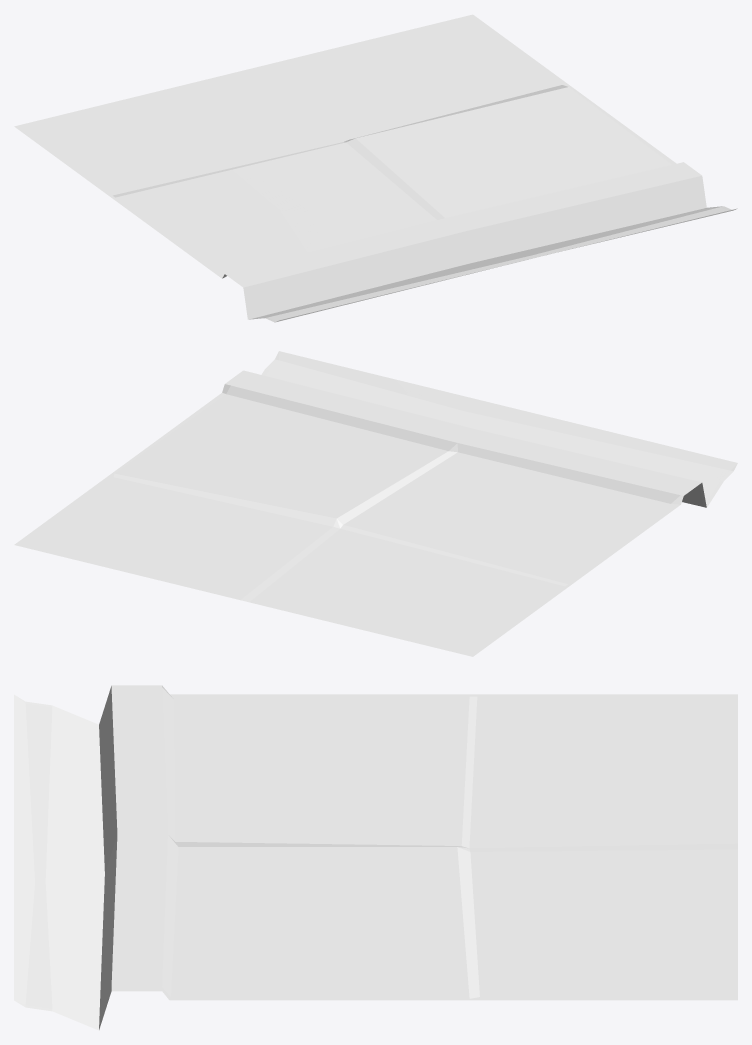
The model's file is SM_Env_Sidewalk_Straight_01.glb.
3 renders of one model, top to bottom at view 1: azimuth 30°, elevation 25°; view 2: azimuth 150°, elevation 25°; view 3: azimuth 270°, elevation 25°, orthographic. The views are drawn at different scales.
Visible parts, largest first — view 1: SM_Env_Sidewalk_Straight_01; view 2: SM_Env_Sidewalk_Straight_01; view 3: SM_Env_Sidewalk_Straight_01.
Boxes of the visible parts, x1,y1,x2,y2 form: SM_Env_Sidewalk_Straight_01: [14, 14, 737, 322]; SM_Env_Sidewalk_Straight_01: [14, 351, 737, 656]; SM_Env_Sidewalk_Straight_01: [14, 685, 737, 1030].
Size of the model in its own units: 0.05 by 0.003 by 0.05.
1 material, 1 textured.
